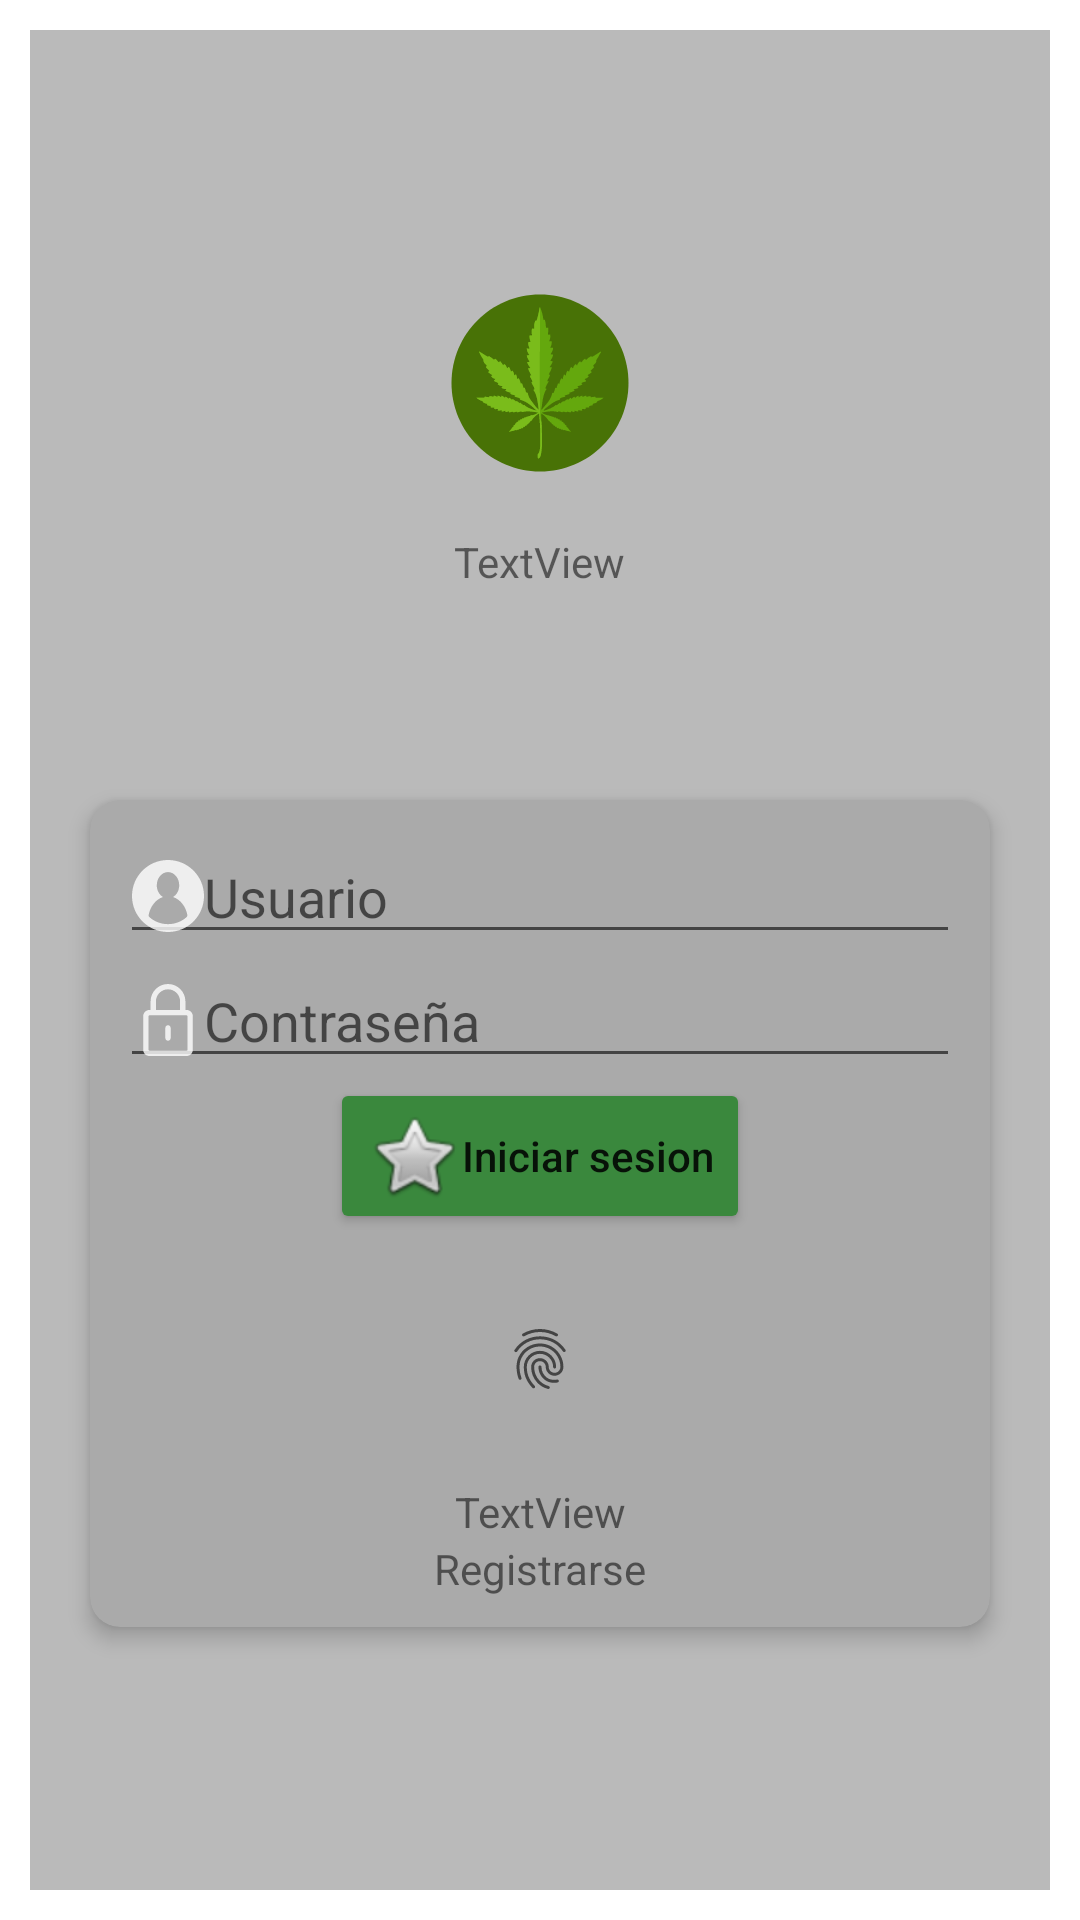

Icon bounding boxes for this 1080x1920 phone screenshot, format (x1, y1, x2, y2):
hojacannabis: (451, 294, 629, 472)
